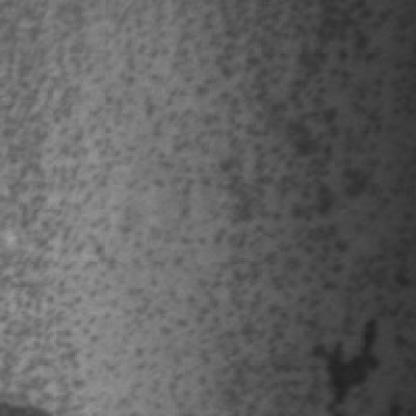pitted_surface: (48, 2, 401, 397)
